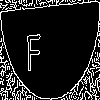F: (25, 24, 42, 71)
